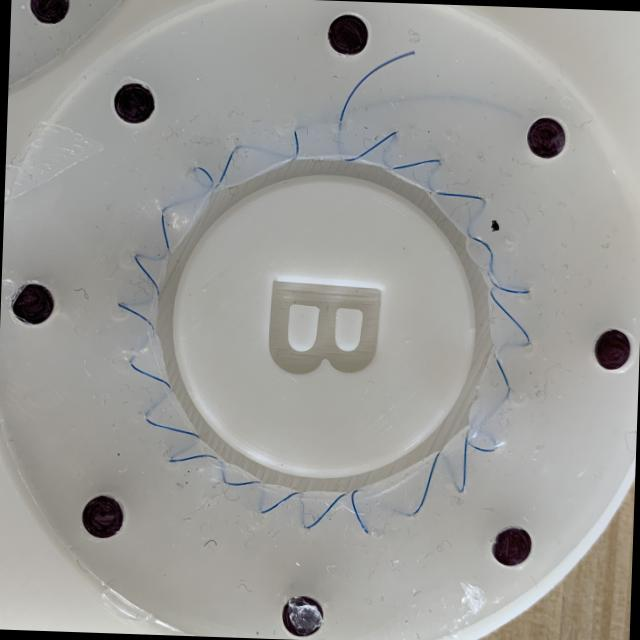suture: (339, 50, 413, 121), (406, 452, 439, 517), (489, 290, 529, 342), (343, 130, 395, 161), (307, 493, 347, 528), (213, 146, 242, 189), (130, 363, 171, 390), (145, 418, 199, 438), (133, 256, 159, 295), (117, 303, 153, 330), (260, 491, 299, 513), (350, 489, 368, 533), (488, 275, 530, 293), (461, 427, 469, 491), (391, 159, 440, 169), (469, 236, 492, 257), (435, 191, 484, 200), (495, 359, 509, 390), (160, 213, 169, 250), (194, 166, 213, 182), (168, 455, 217, 461), (468, 442, 497, 451), (292, 130, 299, 158), (225, 481, 261, 485)
